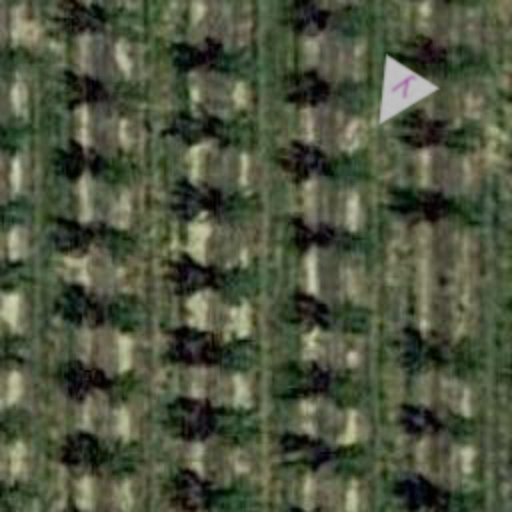triangle: (352, 54, 440, 142)
